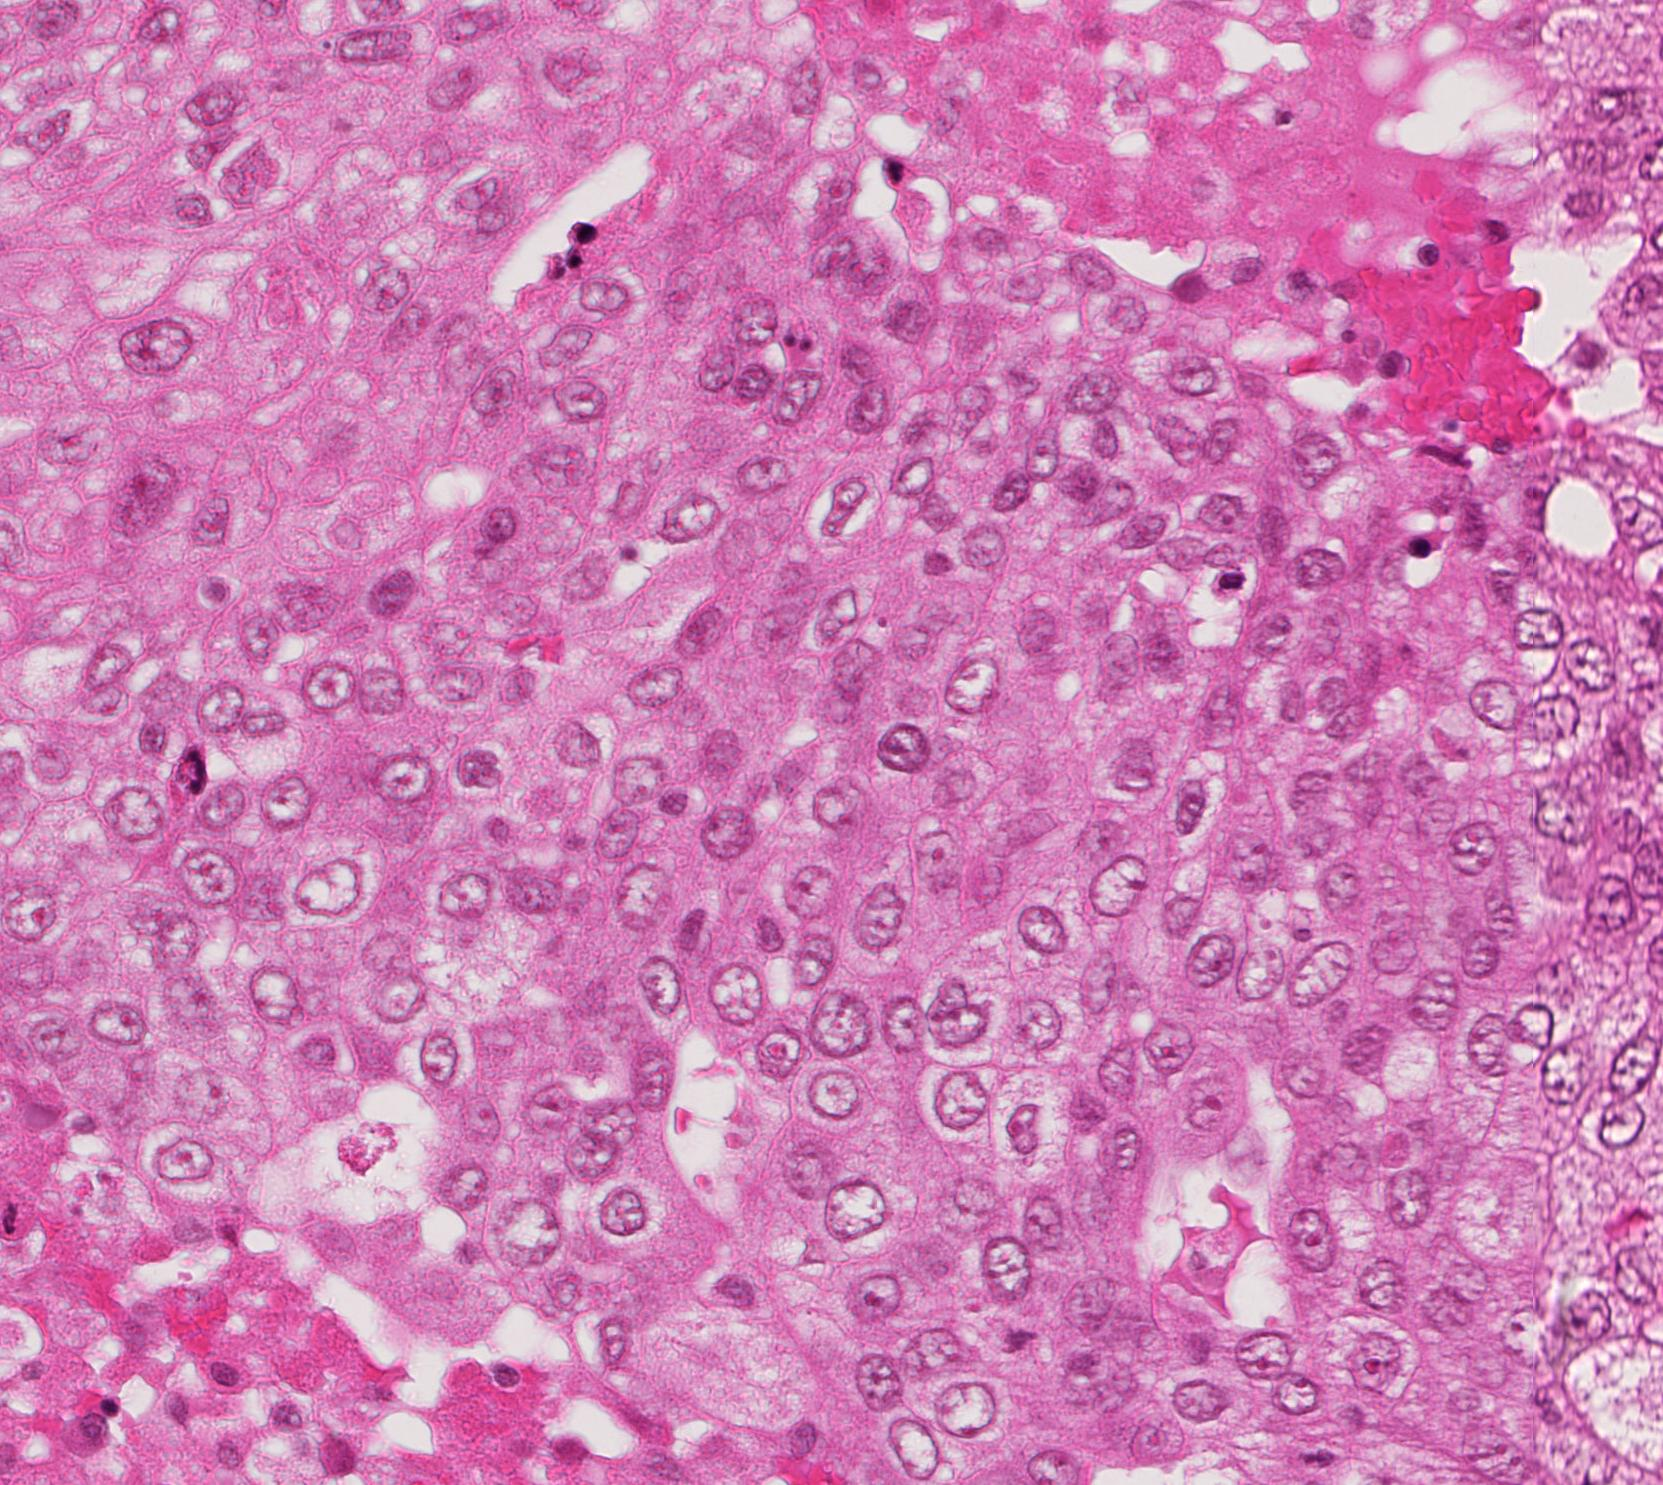mitosis: (988, 1310, 1048, 1370), (1287, 1426, 1348, 1485)
